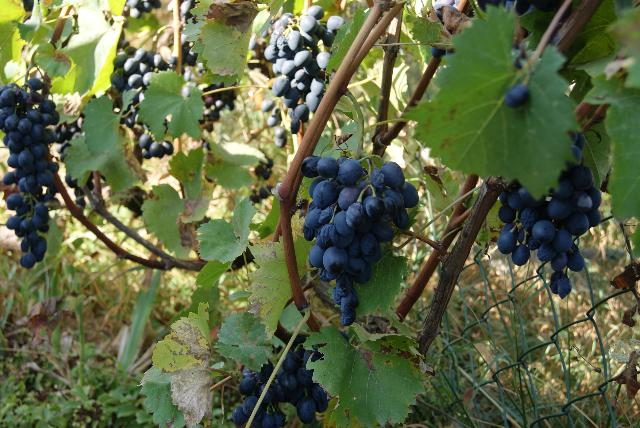grapes: (300, 155, 419, 326), (498, 164, 601, 298), (0, 78, 60, 269), (265, 6, 344, 131), (250, 346, 329, 428), (110, 48, 168, 104), (231, 361, 274, 426)
